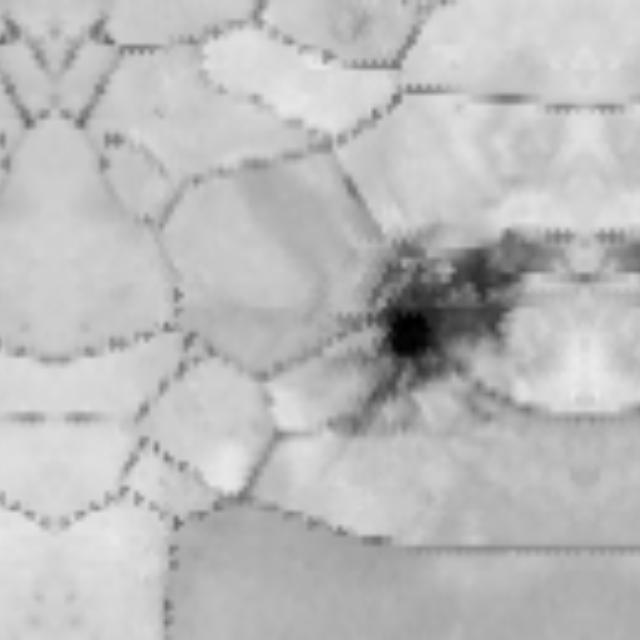good_void: (327, 197, 586, 437), (88, 127, 141, 175), (332, 166, 368, 206), (0, 127, 23, 175)
